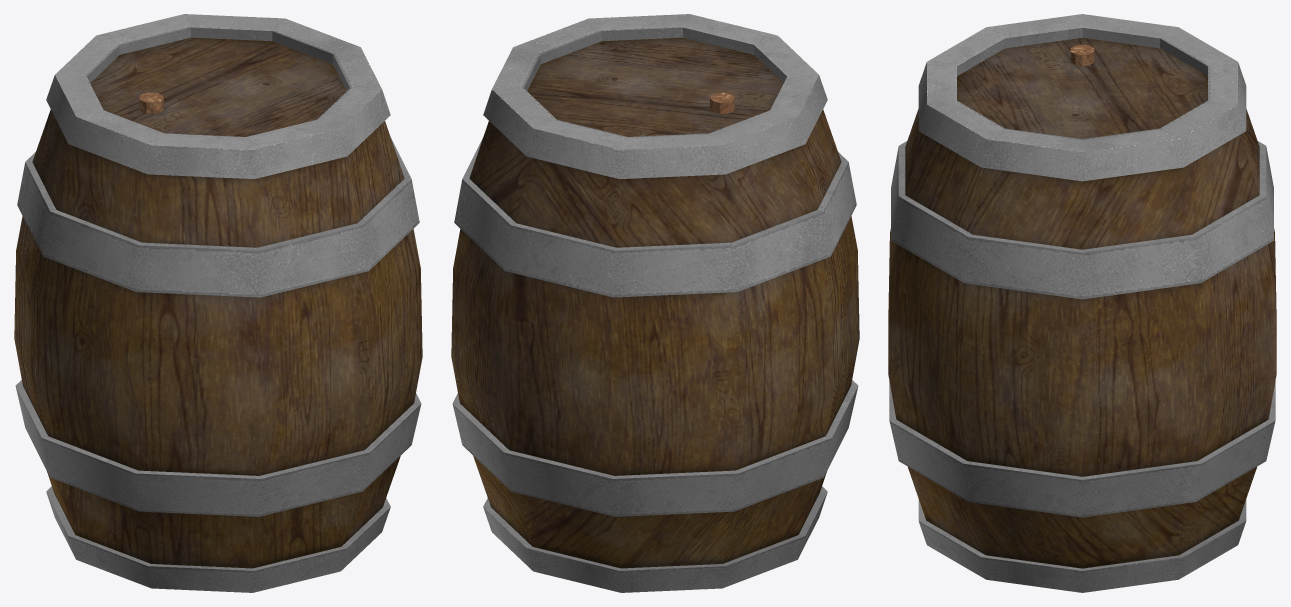
The model's file is BarrellEmbedded.fbx.
The picture shows the model from 3 angles, left to right: view 1: azimuth 30°, elevation 25°; view 2: azimuth 150°, elevation 25°; view 3: azimuth 270°, elevation 25°; orthographic projection.
Visible parts, largest first — view 1: Barrel; view 2: Barrel; view 3: Barrel.
Part boxes in pixels (x1,y1,x2,y2): Barrel: (14,14,422,592); Barrel: (451,14,859,592); Barrel: (888,14,1276,592).
Size of the model in its own units: 34.67 by 41.34 by 32.97.
Materials: 1 (1 with a texture image).
